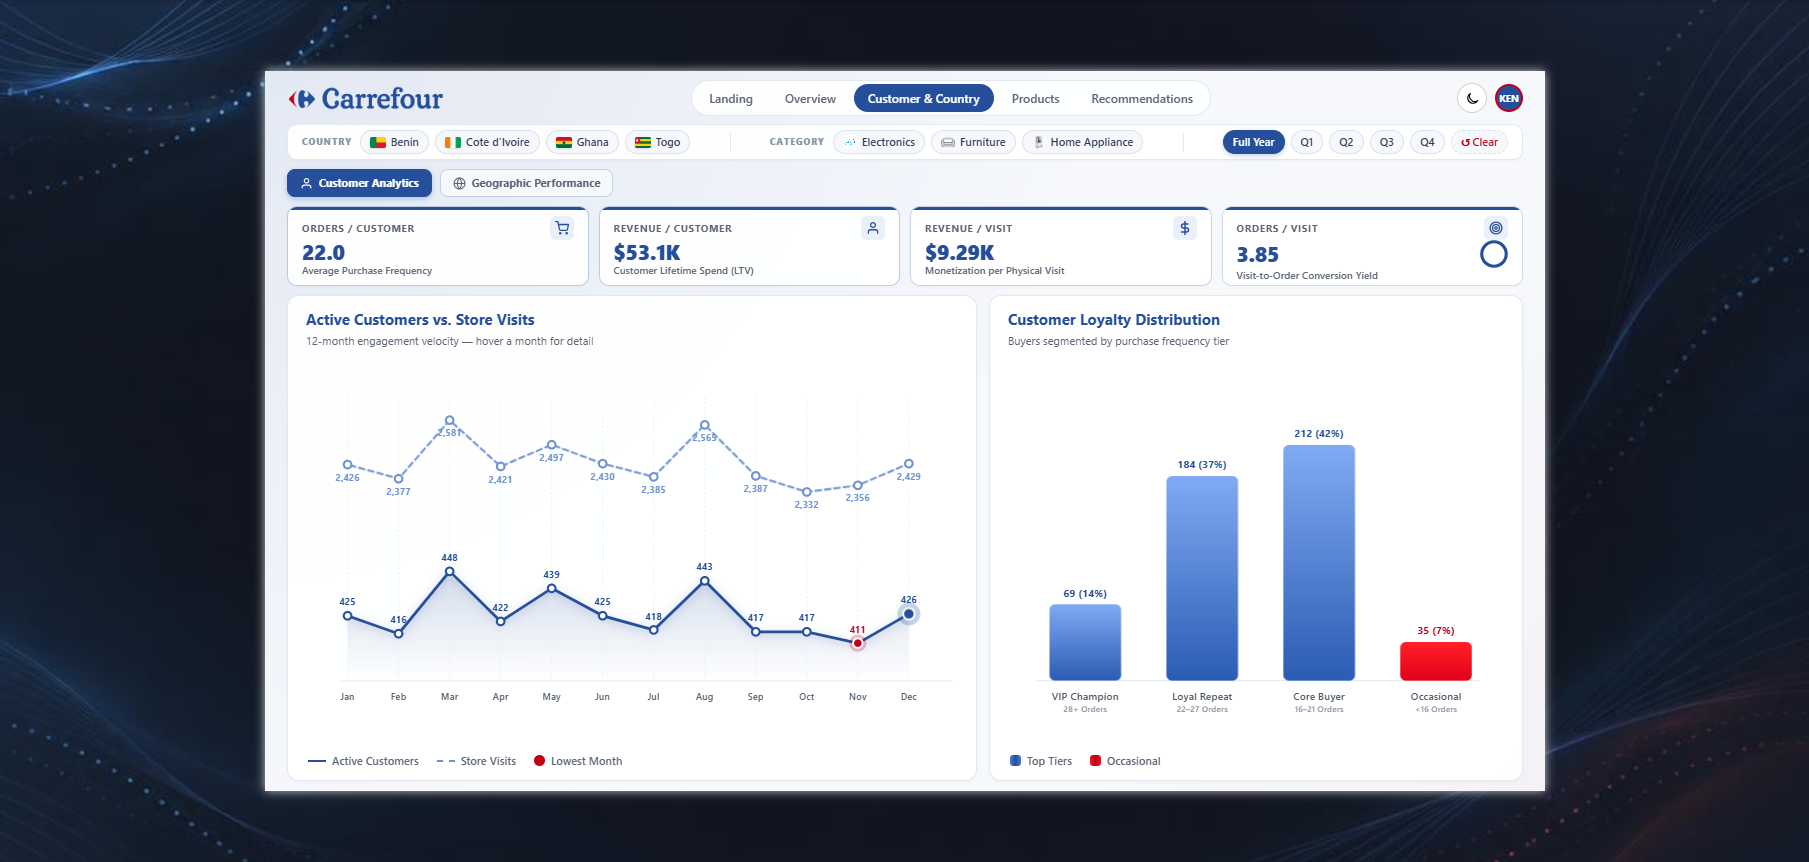

The dashboard page shown, as its layout file describes it:
{"tool":"powerbi","page":{"name":"Customer & Country Page","canvas":[1280,720],"ordinal":2},"visuals":[{"type":"htmlContent443BE3AD55E043BF878BED274D3A6855","fields":{"content":["HTML_Visuals.Customer_Country_Page"]},"box":[0,0,1280,720],"z":0},{"type":"advancedSlicerVisual","title":"Country","fields":{"Values":["dim_country.country"]},"box":[96,56,344,32],"z":1000},{"type":"advancedSlicerVisual","title":"Category","fields":{"Values":["dim_category.category"]},"box":[568,56,312,32],"z":2000},{"type":"advancedSlicerVisual","title":"Quarter","fields":{"Values":["dim_date.quarter"]},"box":[1024,56,160,32],"z":3000},{"type":"actionButton","title":"Clear Filters","box":[1184,56,64,32],"z":4000},{"type":"actionButton","title":"Recommendations","box":[820,15,115,24],"z":7000},{"type":"actionButton","title":"Products","box":[740,15,60,24],"z":7250},{"type":"actionButton","title":"Overview","box":[515,15,60,24],"z":8000},{"type":"actionButton","title":"Landing","box":[440,15,55,24],"z":8500}]}

Visuals, with their boxes on the page's 1280x720 design canvas (x1, y1, x2, y2). These are canvas units, not pixel positions in the 1809x862 screenshot, which may show the page scaled, cropped or inside an application window:
htmlContent443BE3AD55E043BF878BED274D3A6855 - HTML_Visuals.Customer_Country_Page: crop(0, 0, 1280, 720)
"Country" advancedSlicerVisual: crop(96, 56, 440, 88)
"Category" advancedSlicerVisual: crop(568, 56, 880, 88)
"Quarter" advancedSlicerVisual: crop(1024, 56, 1184, 88)
"Clear Filters" actionButton: crop(1184, 56, 1248, 88)
"Recommendations" actionButton: crop(820, 15, 935, 39)
"Products" actionButton: crop(740, 15, 800, 39)
"Overview" actionButton: crop(515, 15, 575, 39)
"Landing" actionButton: crop(440, 15, 495, 39)
